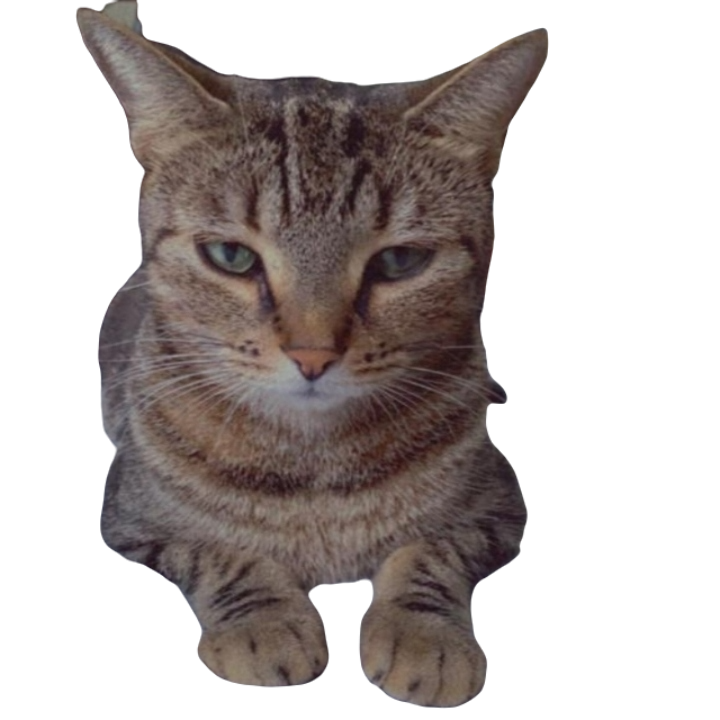Cat: (69, 2, 555, 714)
